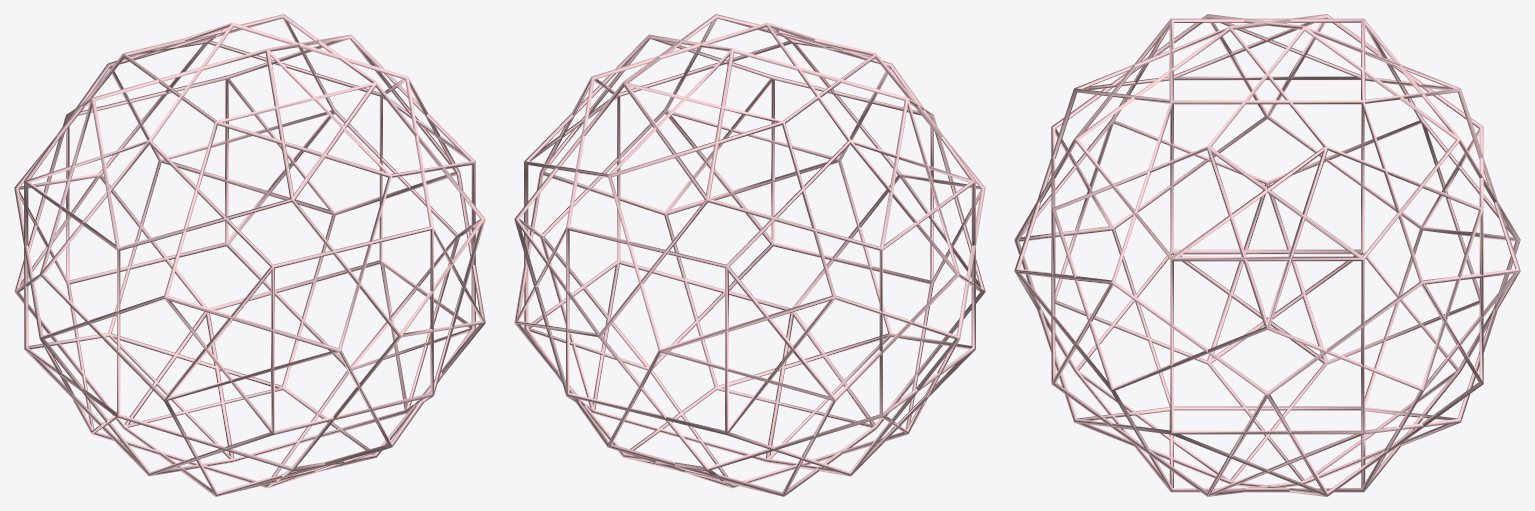
File: Rhombidodecadodecahedron2.glb
The picture shows the model from 3 angles, left to right: view 1: azimuth 30°, elevation 25°; view 2: azimuth 150°, elevation 25°; view 3: azimuth 270°, elevation 25°; orthographic projection. The views are drawn at different scales.
Parts seen in each view (by area): view 1: Rhombidodecadodecahedron; view 2: Rhombidodecadodecahedron; view 3: Rhombidodecadodecahedron.
Boxes of the visible parts, x1,y1,x2,y2 form: Rhombidodecadodecahedron: [14, 14, 485, 496]; Rhombidodecadodecahedron: [514, 14, 985, 496]; Rhombidodecadodecahedron: [1014, 14, 1520, 496].
Size of the model in its own units: 2.64 by 2.64 by 2.64.
